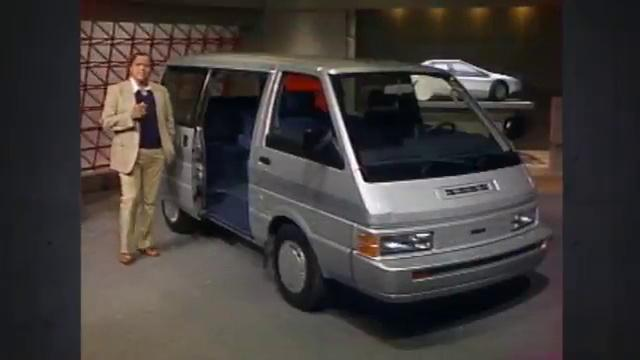Van: (159, 47, 556, 326)
